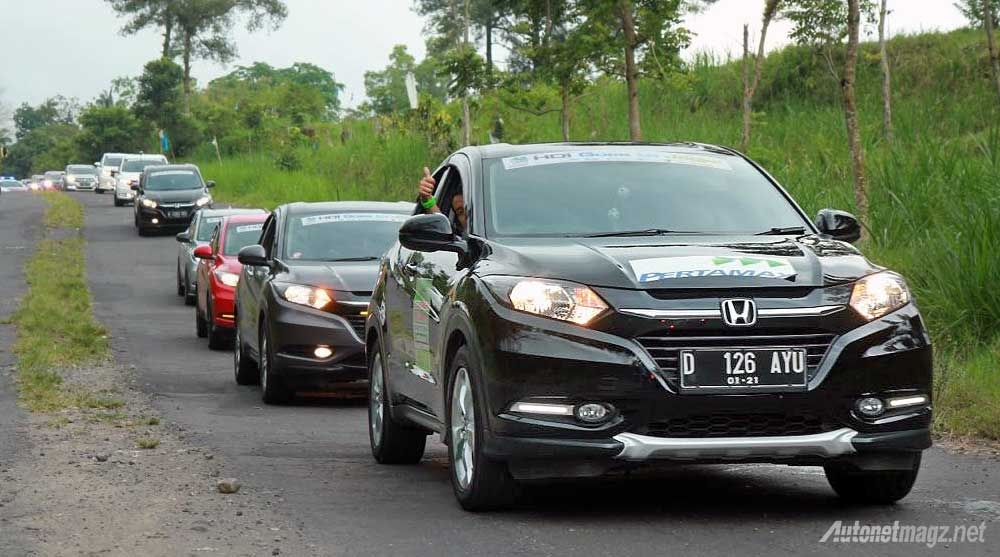plate: (682, 347, 807, 390)
